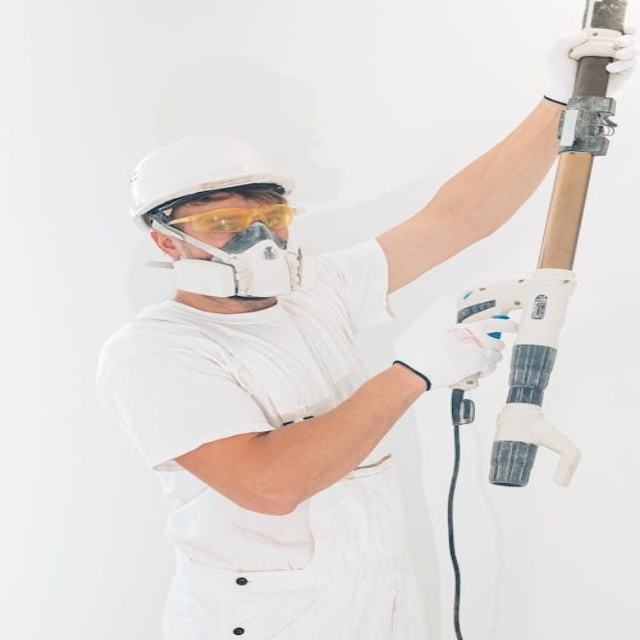Gafas: (161, 203, 296, 233)
Guantes: (387, 311, 524, 389), (540, 24, 636, 109)
Mascara: (158, 216, 298, 299)
